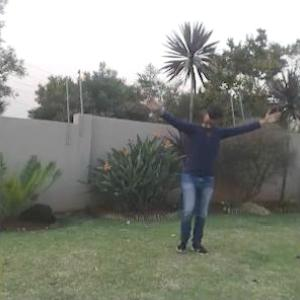takeoff: (143, 88, 267, 269)
